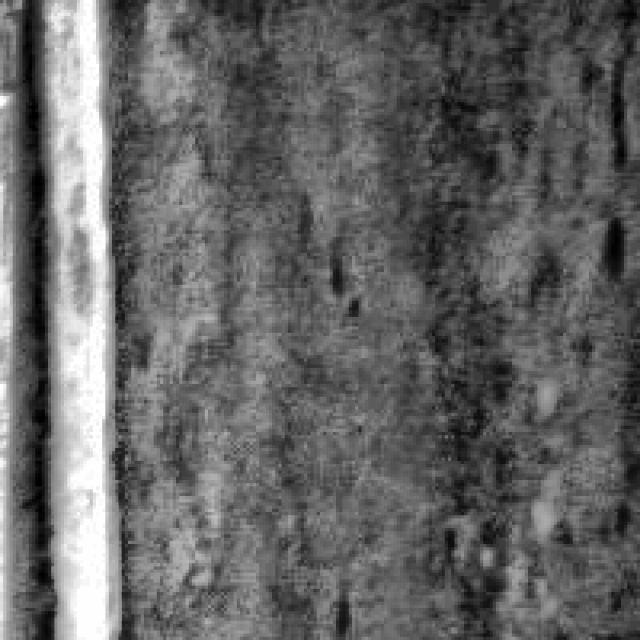Inclusion: (0, 0, 122, 634)
